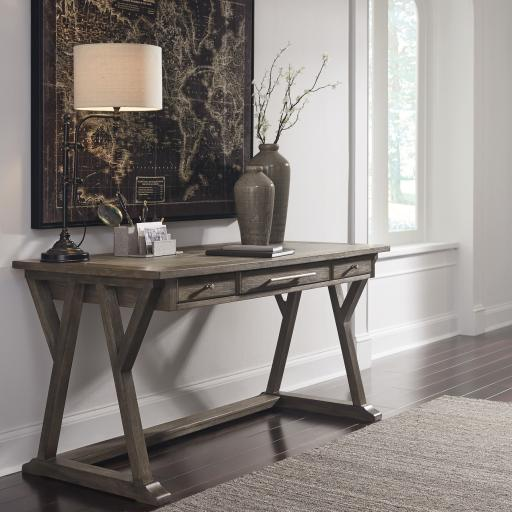desk: (12, 240, 390, 508)
wall: (0, 0, 371, 477), (417, 0, 512, 336)
